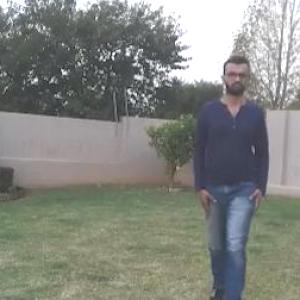follow: (197, 76, 263, 286)
